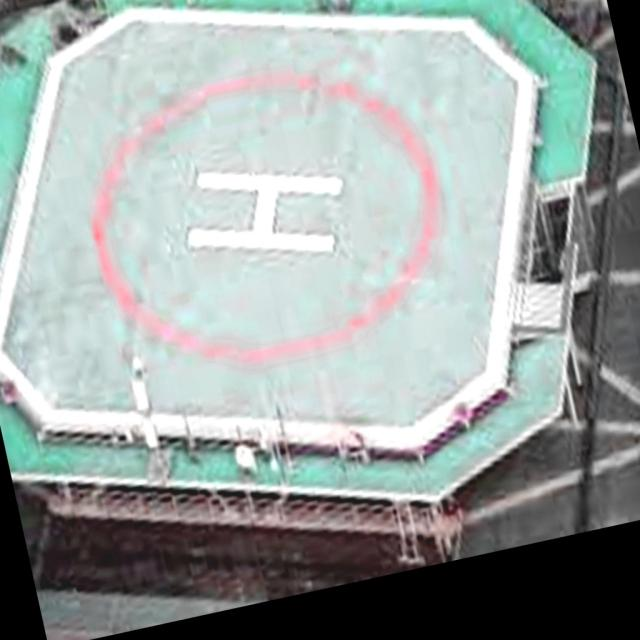helipad: (85, 66, 447, 367)
